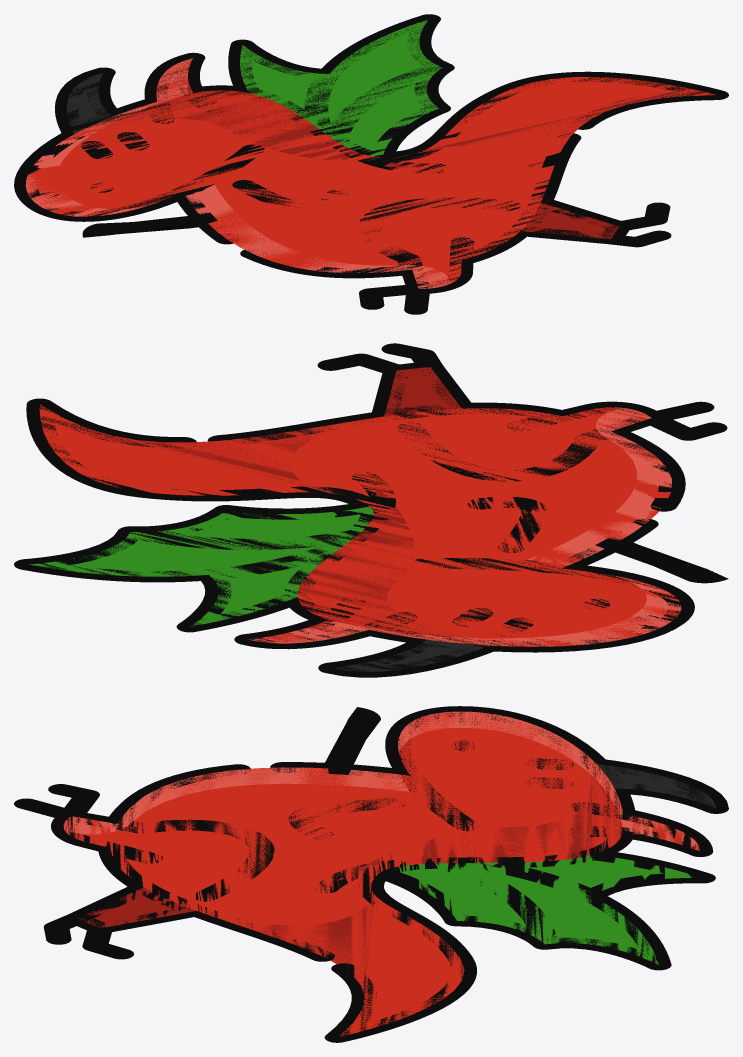
File: dragon_holding.obj
The picture shows the model from 3 angles, top to bottom: view 1: azimuth 30°, elevation 25°; view 2: azimuth 150°, elevation 25°; view 3: azimuth 270°, elevation 25°; orthographic projection. The views are drawn at different scales.
Size of the model in its own units: 0.1445 by 0.000642 by 0.1297.
